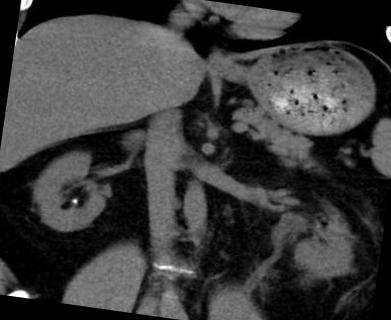Tas_Var: (70, 196, 80, 204)
